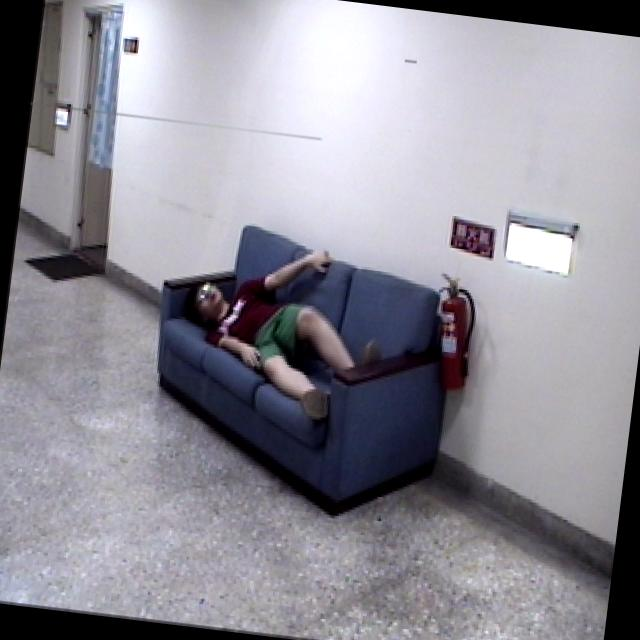lie: (173, 218, 388, 424)
